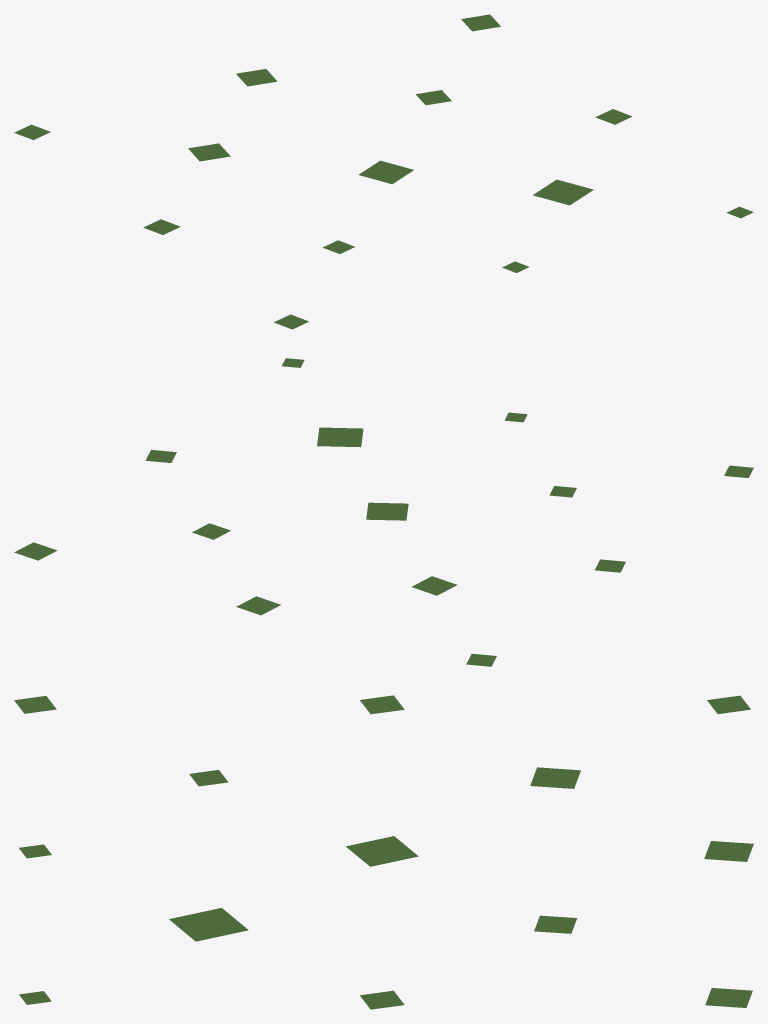
File: grass.fbx
3 renders of one model, top to bottom at view 1: azimuth 30°, elevation 25°; view 2: azimuth 150°, elevation 25°; view 3: azimuth 270°, elevation 25°, orthographic. The views are drawn at different scales.
Visible parts, largest first — view 1: grass; view 2: grass; view 3: grass.
Part boxes in pixels (x1,y1,x2,y2): grass: (14,14,753,329); grass: (14,358,753,666); grass: (14,695,753,1009).
Size of the model in its own units: 0.8578 by 0 by 0.8535.
1 material, 1 textured.
